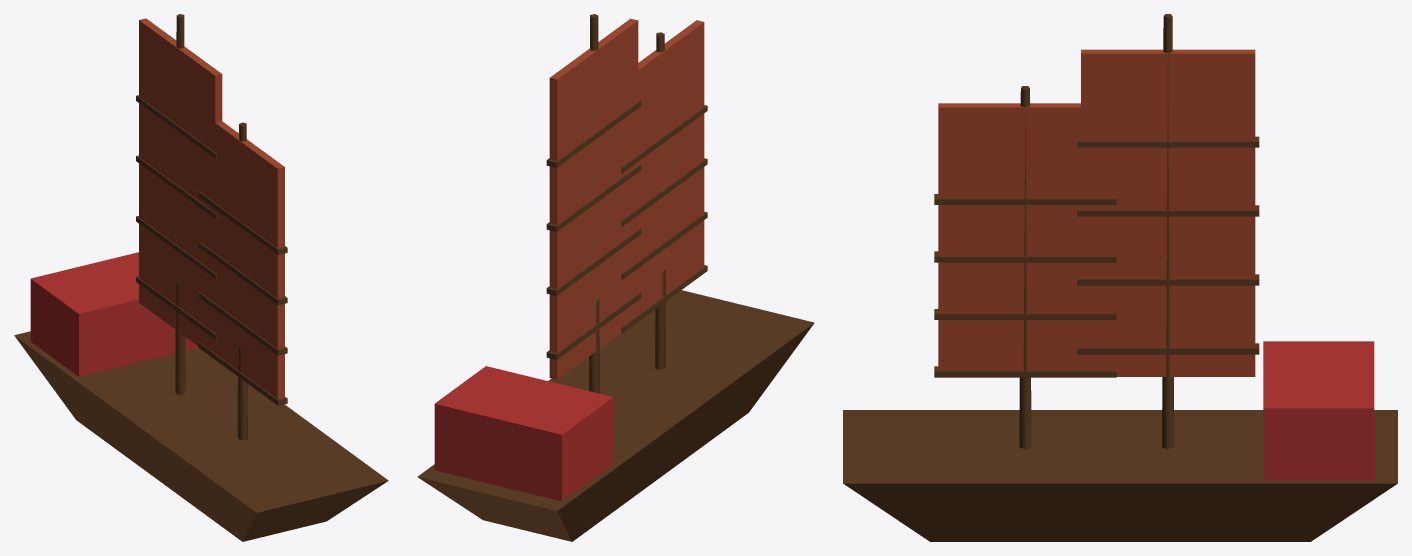
Rendered from vehicle_junk.glb.
3 renders of one model, left to right at view 1: azimuth 30°, elevation 25°; view 2: azimuth 150°, elevation 25°; view 3: azimuth 270°, elevation 25°, orthographic. The views are drawn at different scales.
Visible parts, largest first — view 1: vehicle_junk; view 2: vehicle_junk; view 3: vehicle_junk.
Boxes of the visible parts, left/top/right/bottom form: vehicle_junk: left=14, top=14, right=388, bottom=541; vehicle_junk: left=417, top=14, right=814, bottom=541; vehicle_junk: left=843, top=14, right=1397, bottom=541.
Size of the model in its own units: 0.22 by 0.7 by 0.7.
